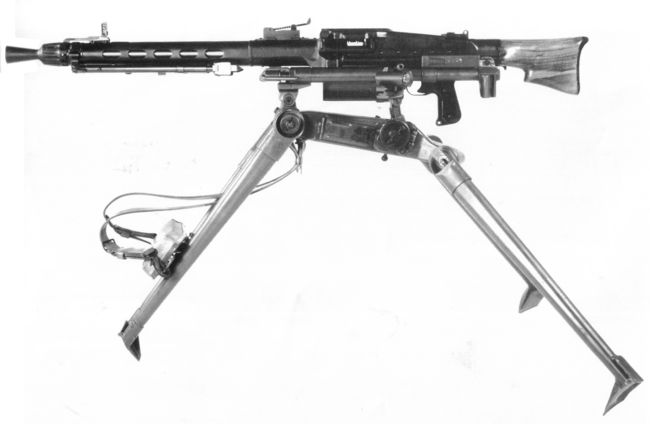rifle: (4, 17, 640, 405)
